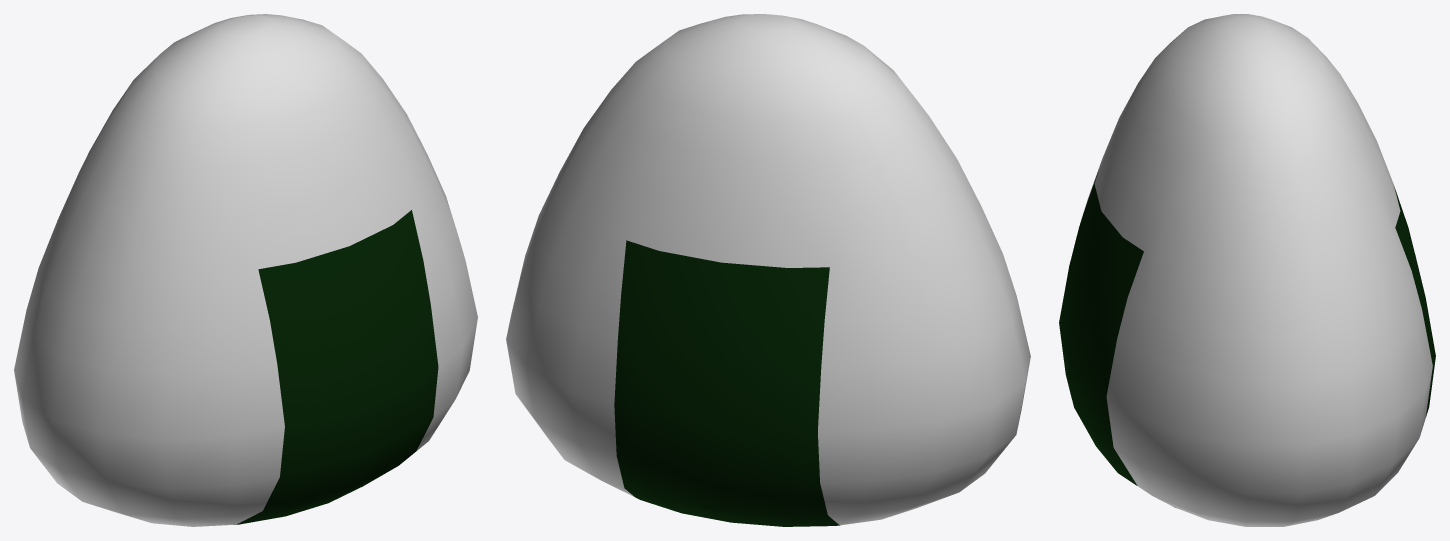
Rendered from Onigiri.fbx.
The picture shows the model from 3 angles, left to right: view 1: azimuth 30°, elevation 25°; view 2: azimuth 150°, elevation 25°; view 3: azimuth 270°, elevation 25°; orthographic projection. The views are drawn at different scales.
Visible parts, largest first — view 1: sm_riceball; view 2: sm_riceball; view 3: sm_riceball.
Part boxes in pixels (bbox=[...]): sm_riceball: bbox=[14, 14, 477, 526]; sm_riceball: bbox=[506, 14, 1030, 526]; sm_riceball: bbox=[1059, 14, 1435, 526].
Size of the model in its own units: 40.73 by 39.43 by 30.52.
